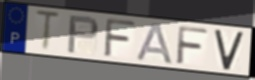A: (135, 22, 175, 66)
F: (174, 24, 210, 67), (102, 16, 138, 59)
P: (65, 15, 101, 55)
T: (33, 8, 63, 54)
V: (213, 29, 246, 72)
